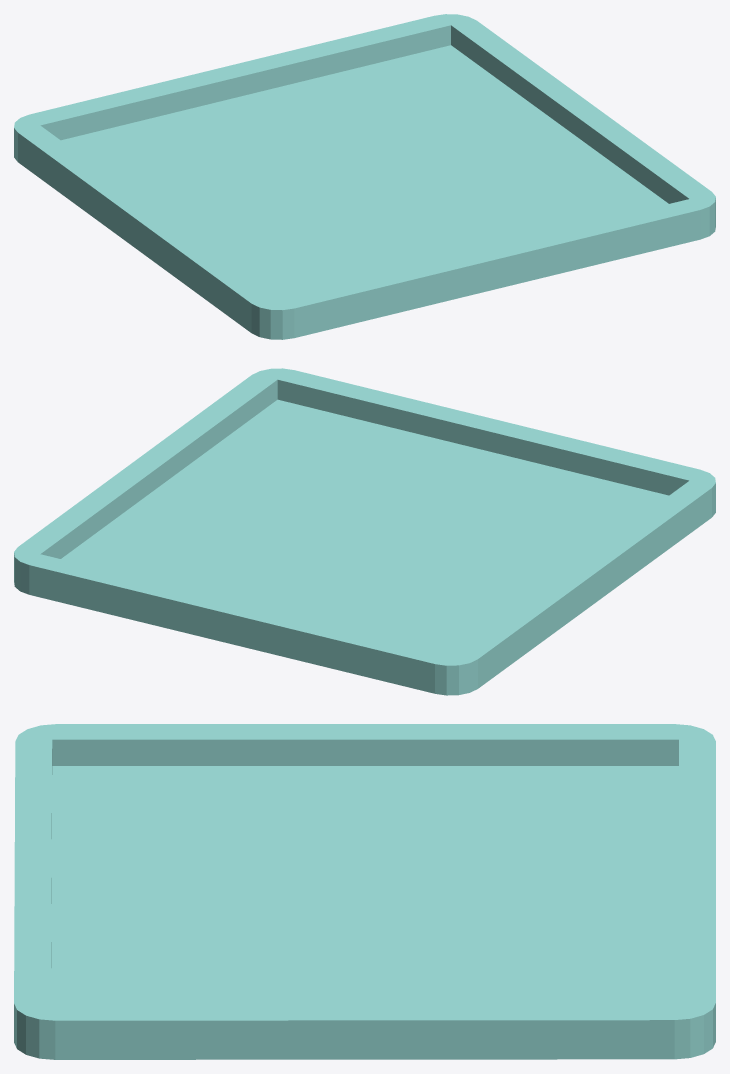
File: MindPiece.fbx
3 renders of one model, top to bottom at view 1: azimuth 30°, elevation 25°; view 2: azimuth 150°, elevation 25°; view 3: azimuth 270°, elevation 25°, orthographic. The views are drawn at different scales.
Visible parts, largest first — view 1: Plane; view 2: Plane; view 3: Plane.
Boxes of the visible parts, left/top/right/bottom form: Plane: left=14, top=14, right=715, bottom=339; Plane: left=14, top=368, right=715, bottom=695; Plane: left=14, top=724, right=715, bottom=1059.
Size of the model in its own units: 136 by 8.41 by 136.
